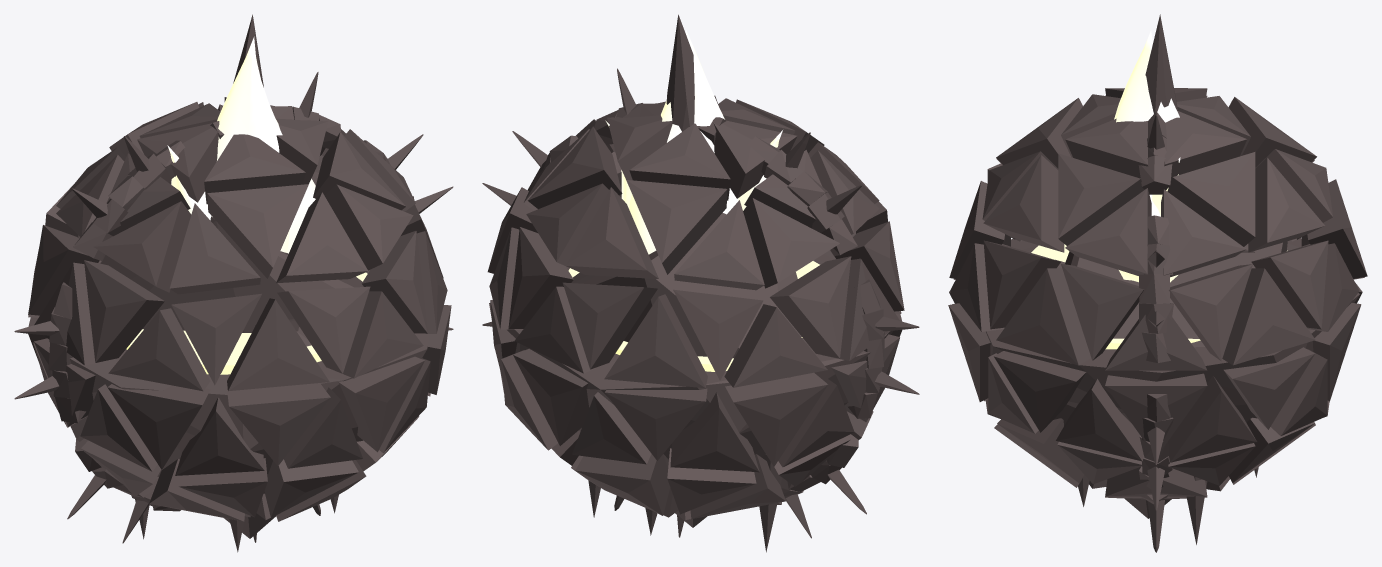
Rendered from EmberCrucible.fbx.
The picture shows the model from 3 angles, left to right: view 1: azimuth 30°, elevation 25°; view 2: azimuth 150°, elevation 25°; view 3: azimuth 270°, elevation 25°; orthographic projection.
Parts seen in each view (by area): view 1: EmberCrucible_BeadShell, EmberCrucible_HaloRing, EmberCrucible_Plinth, EmberCrucible_Flame, EmberCrucible_Rock, EmberCrucible_PlinthLava; view 2: EmberCrucible_BeadShell, EmberCrucible_HaloRing, EmberCrucible_Plinth, EmberCrucible_Rock, EmberCrucible_Flame, EmberCrucible_Shard, EmberCrucible_PlinthLava; view 3: EmberCrucible_BeadShell, EmberCrucible_HaloRing, EmberCrucible_Plinth, EmberCrucible_Rock, EmberCrucible_Flame, EmberCrucible_Shard, EmberCrucible_PlinthLava.
Part boxes in pixels (left/top/right/bottom): EmberCrucible_BeadShell: left=28, top=97, right=451, bottom=521; EmberCrucible_HaloRing: left=14, top=72, right=453, bottom=543; EmberCrucible_Plinth: left=69, top=262, right=428, bottom=552; EmberCrucible_Flame: left=167, top=36, right=315, bottom=253; EmberCrucible_Rock: left=100, top=182, right=363, bottom=332; EmberCrucible_PlinthLava: left=126, top=272, right=367, bottom=374; EmberCrucible_BeadShell: left=487, top=95, right=904, bottom=519; EmberCrucible_HaloRing: left=482, top=68, right=919, bottom=538; EmberCrucible_Plinth: left=507, top=258, right=900, bottom=552; EmberCrucible_Rock: left=571, top=213, right=806, bottom=358; EmberCrucible_Flame: left=605, top=30, right=782, bottom=254; EmberCrucible_Shard: left=666, top=14, right=694, bottom=131; EmberCrucible_PlinthLava: left=568, top=261, right=819, bottom=371; EmberCrucible_BeadShell: left=948, top=88, right=1367, bottom=499; EmberCrucible_HaloRing: left=1138, top=112, right=1173, bottom=552; EmberCrucible_Plinth: left=986, top=243, right=1359, bottom=544; EmberCrucible_Rock: left=1053, top=241, right=1287, bottom=425; EmberCrucible_Flame: left=1114, top=31, right=1180, bottom=282; EmberCrucible_Shard: left=1145, top=14, right=1177, bottom=113; EmberCrucible_PlinthLava: left=1031, top=244, right=1287, bottom=349.
Size of the model in its own units: 2.53 by 2.9 by 2.13.
